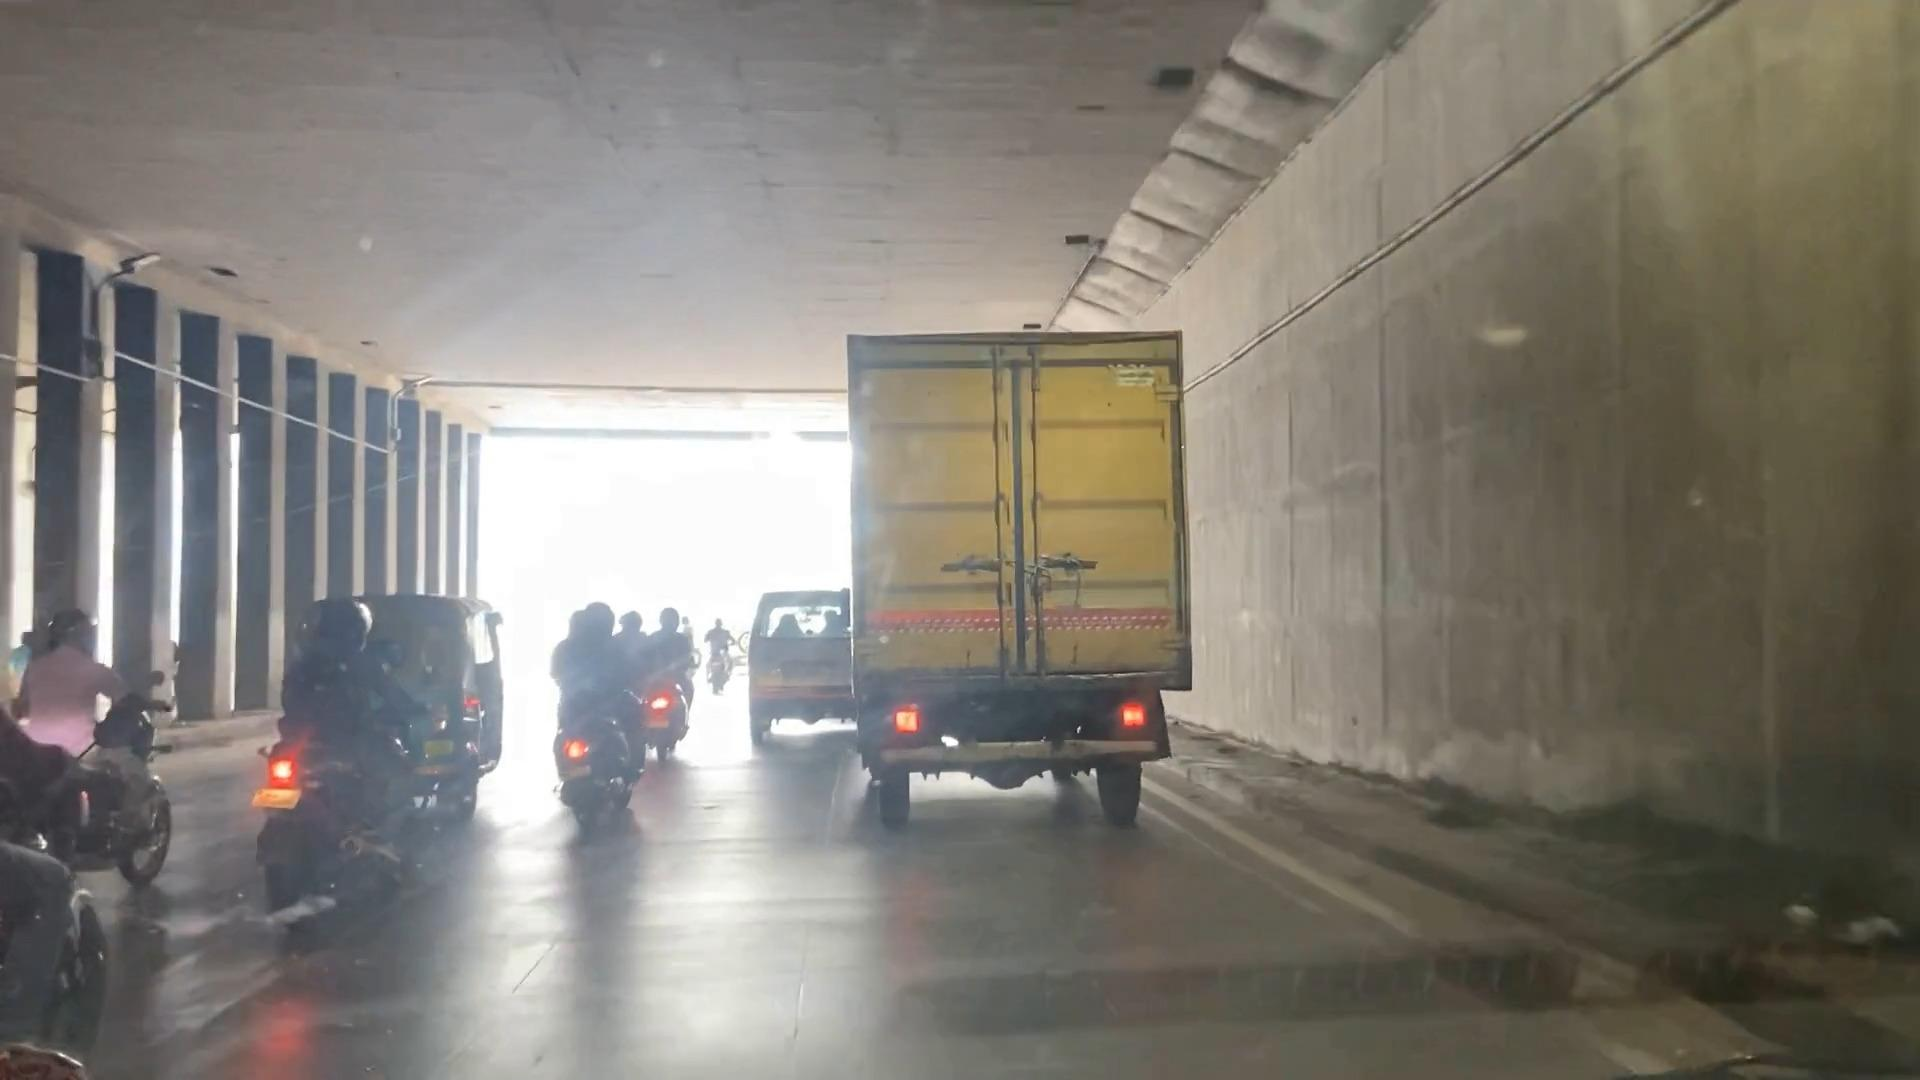HMV: (840, 334, 1192, 807)
LMV: (270, 607, 410, 905), (560, 600, 667, 844), (750, 583, 856, 750)
